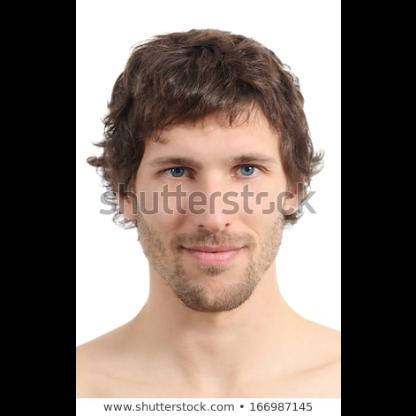Male: (114, 100, 304, 314)
